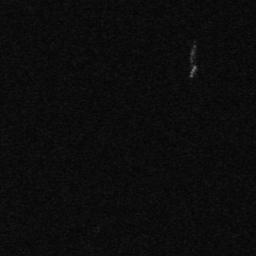ship: (189, 65, 198, 78)
